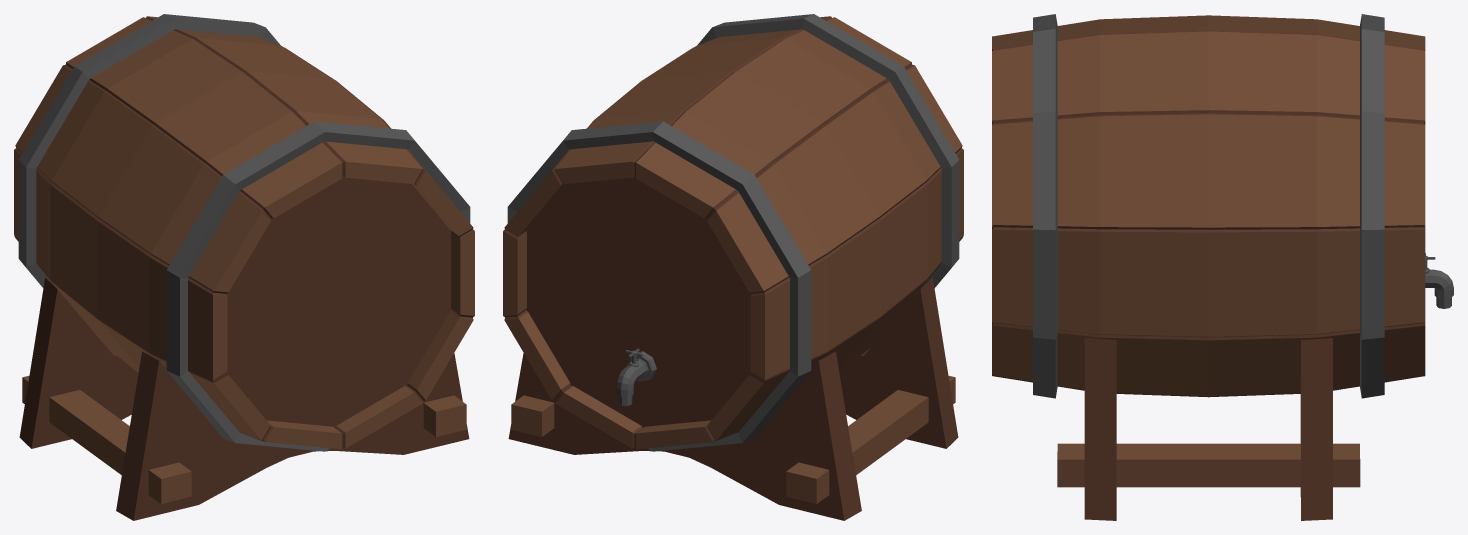
File: Keg.fbx
3 renders of one model, left to right at view 1: azimuth 30°, elevation 25°; view 2: azimuth 150°, elevation 25°; view 3: azimuth 270°, elevation 25°, orthographic. The views are drawn at different scales.
Parts seen in each view (by area): view 1: Keg; view 2: Keg; view 3: Keg.
Part boxes in pixels (box(x1,y1,x2,y2)): Keg: box(14, 14, 474, 520); Keg: box(503, 14, 963, 520); Keg: box(992, 14, 1453, 520).
Size of the model in its own units: 161 by 166 by 173.
